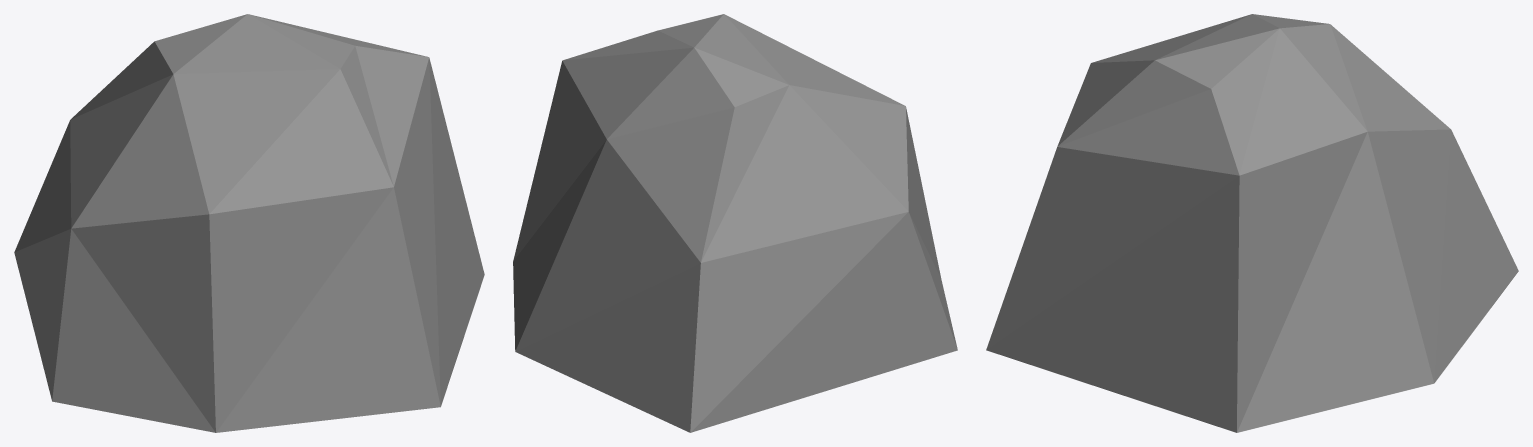
The model's file is Stone_B_16.FBX.
3 views of the same model, side by side, from view 1: azimuth 30°, elevation 25°; view 2: azimuth 150°, elevation 25°; view 3: azimuth 270°, elevation 25° (orthographic). The views are drawn at different scales.
Parts seen in each view (by area): view 1: Stone_B_16; view 2: Stone_B_16; view 3: Stone_B_16.
Part boxes in pixels (left/top/right/bottom): Stone_B_16: left=14, top=14, right=484, bottom=432; Stone_B_16: left=513, top=14, right=957, bottom=432; Stone_B_16: left=986, top=14, right=1518, bottom=432.
Size of the model in its own units: 3.85 by 2.41 by 3.89.
